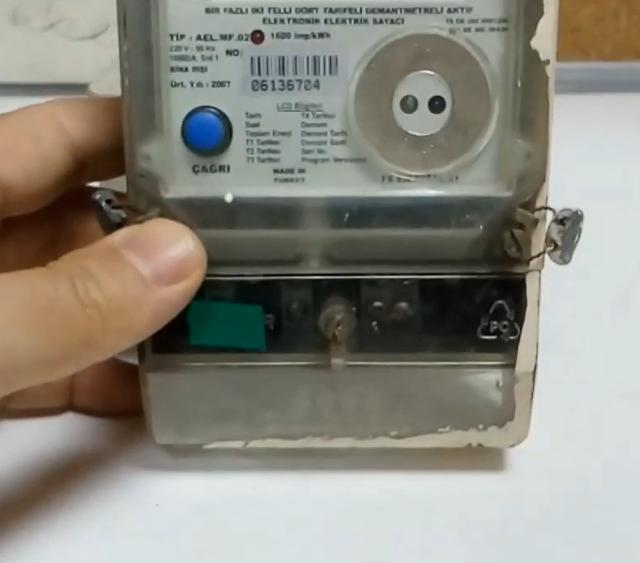electric-meter-detection: (92, 0, 583, 450)
